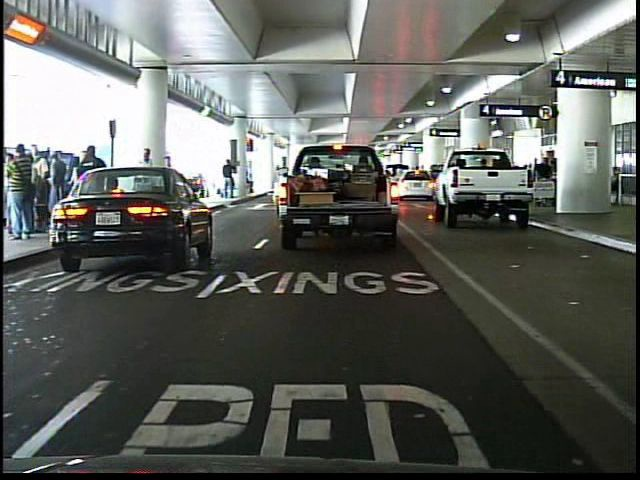person: (73, 140, 109, 229), (160, 154, 193, 229), (131, 145, 159, 231), (161, 150, 183, 223), (220, 158, 238, 200)
